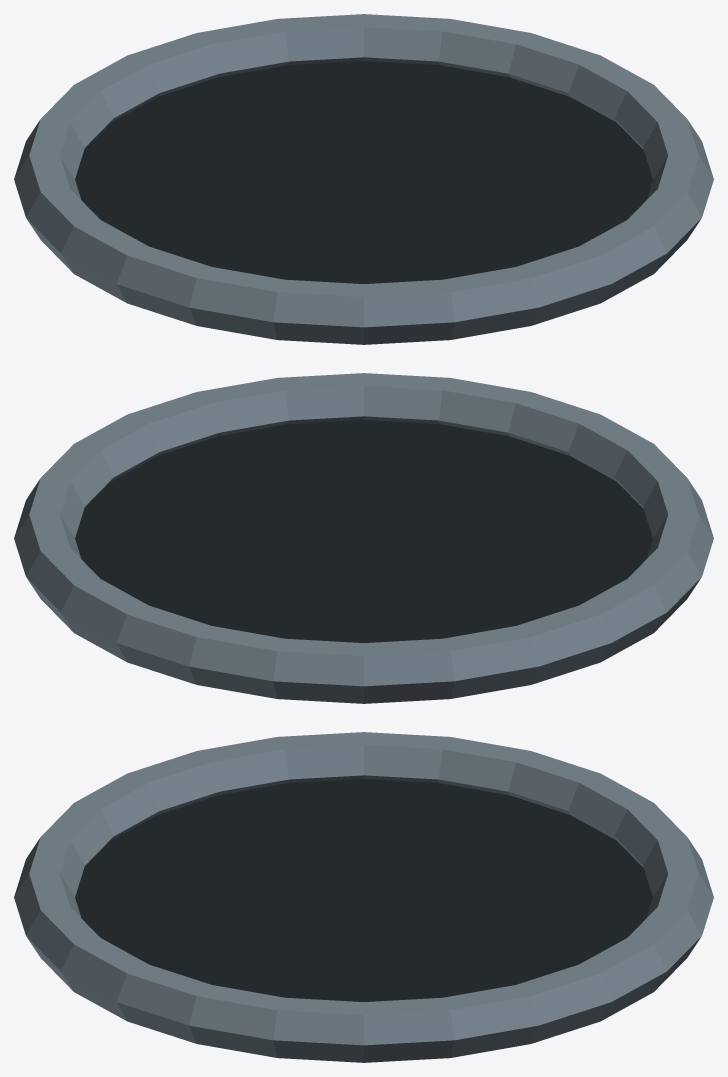
Rendered from sewer.glb.
3 views of the same model, one above another, from view 1: azimuth 30°, elevation 25°; view 2: azimuth 150°, elevation 25°; view 3: azimuth 270°, elevation 25° (orthographic).
Visible parts, largest first — view 1: Dark_opening, Metal_opening_rim; view 2: Dark_opening, Metal_opening_rim; view 3: Dark_opening, Metal_opening_rim.
Boxes of the visible parts, bbox=[...] form: Dark_opening: bbox=[75, 61, 652, 283]; Metal_opening_rim: bbox=[14, 14, 713, 344]; Dark_opening: bbox=[75, 420, 652, 642]; Metal_opening_rim: bbox=[14, 373, 713, 703]; Dark_opening: bbox=[75, 779, 652, 1001]; Metal_opening_rim: bbox=[14, 732, 713, 1062].
Size of the model in its own units: 1.95 by 0.1472 by 1.95.
